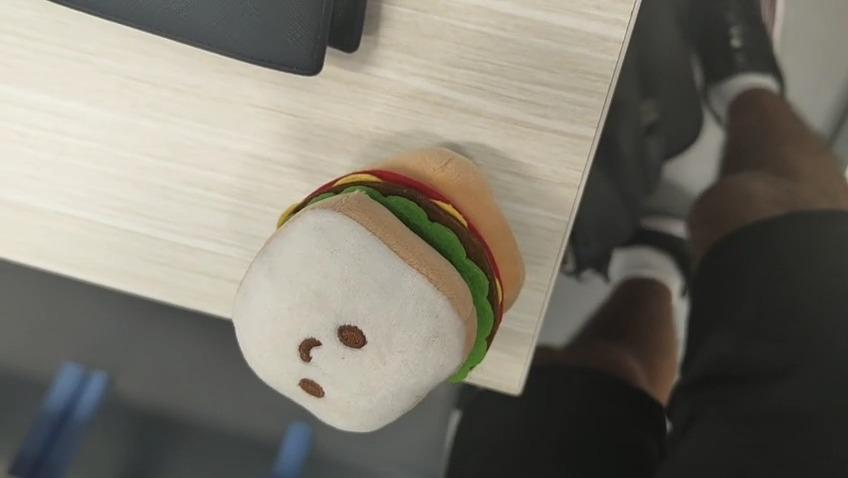objects: (230, 146, 528, 433)
